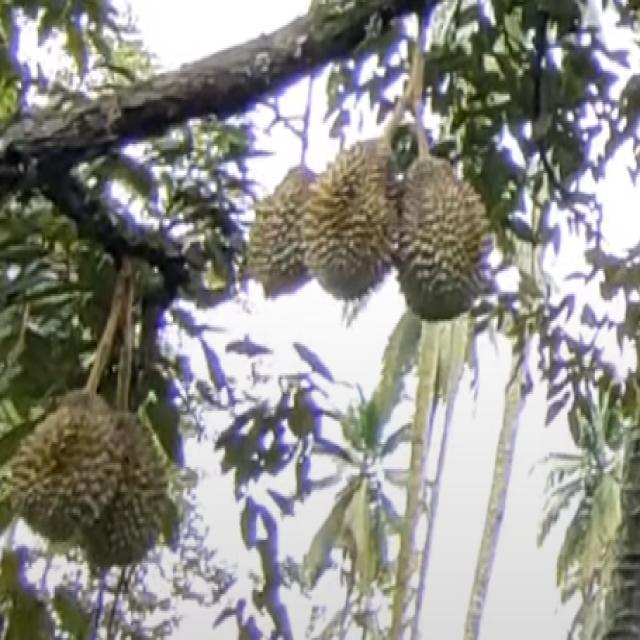mature: (7, 382, 123, 548), (305, 138, 402, 305), (393, 155, 485, 321), (242, 151, 332, 300), (86, 419, 170, 578)
